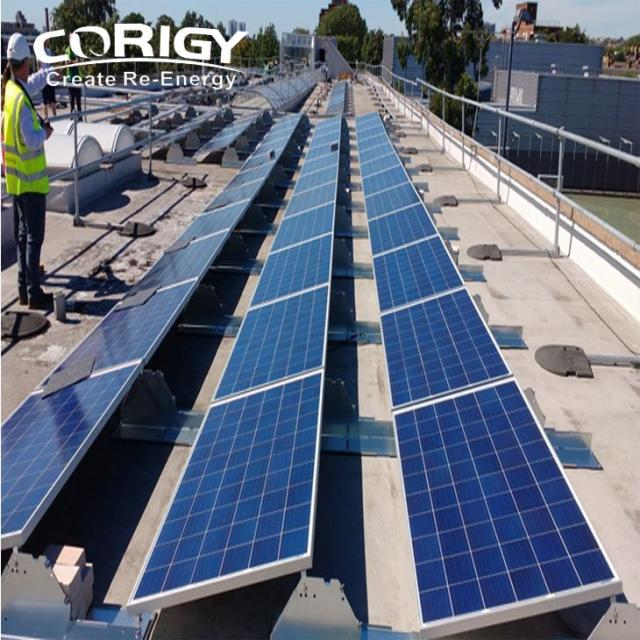clean-solar-panel: (356, 114, 621, 638), (129, 116, 341, 612)
